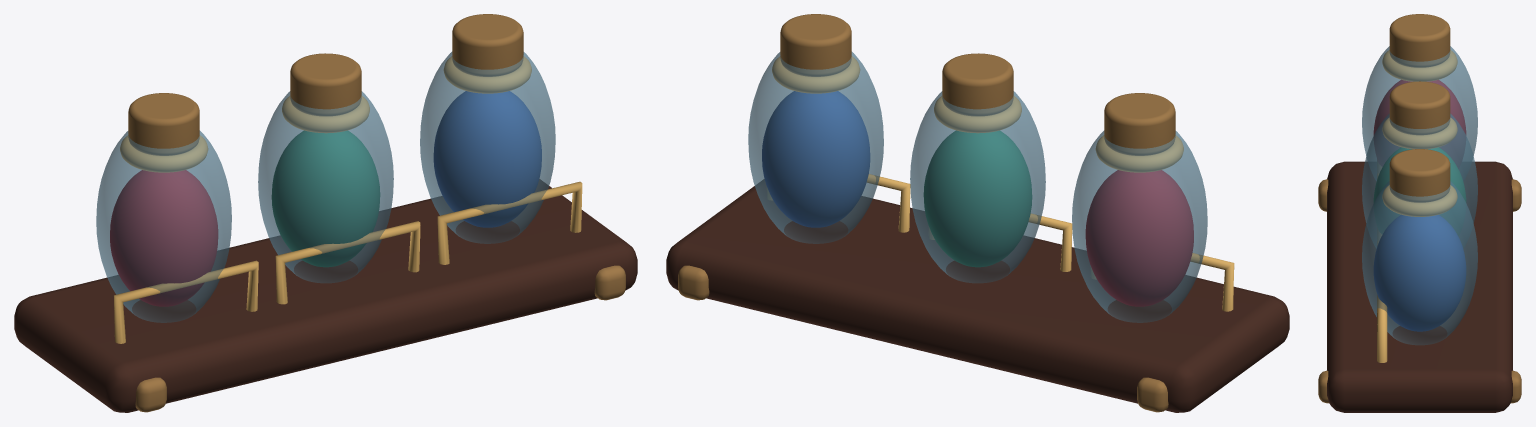
File: genre-vials-v1.glb
The picture shows the model from 3 angles, left to right: view 1: azimuth 30°, elevation 25°; view 2: azimuth 150°, elevation 25°; view 3: azimuth 270°, elevation 25°; orthographic projection. The views are drawn at different scales.
Visible parts, largest first — view 1: VialRack, GlassVial.002, GlassVial.001, GlassVial, VialContents.002, VialContents, VialContents.001, VialStopper.001, VialStopper.002, VialStopper, VialCradle.002, VialCradle.001 (+6 smaller); view 2: VialRack, GlassVial.002, GlassVial, GlassVial.001, VialContents, VialContents.002, VialContents.001, VialStopper.001, VialStopper.002, VialStopper, VialCollar, VialCollar.002 (+6 smaller); view 3: VialRack, GlassVial.002, VialContents.002, GlassVial, GlassVial.001, VialStopper.001, VialStopper.002, VialStopper, VialCollar, VialCollar.002, VialCollar.001, VialContents (+4 smaller).
Part boxes in pixels (x1=…): VialRack: x1=14, y1=179, x2=637, y2=412; GlassVial.002: x1=420, y1=51, x2=555, y2=243; GlassVial.001: x1=258, y1=91, x2=393, y2=283; GlassVial: x1=96, y1=130, x2=231, y2=322; VialContents.002: x1=433, y1=91, x2=541, y2=227; VialContents: x1=110, y1=170, x2=218, y2=306; VialContents.001: x1=271, y1=130, x2=380, y2=267; VialStopper.001: x1=290, y1=53, x2=361, y2=116; VialStopper.002: x1=452, y1=14, x2=523, y2=76; VialStopper: x1=128, y1=93, x2=199, y2=155; VialCradle.002: x1=437, y1=181, x2=582, y2=264; VialCradle.001: x1=275, y1=221, x2=420, y2=304; VialRack: x1=666, y1=179, x2=1289, y2=412; GlassVial.002: x1=748, y1=51, x2=883, y2=243; GlassVial: x1=1072, y1=130, x2=1207, y2=322; GlassVial.001: x1=910, y1=91, x2=1045, y2=283; VialContents: x1=1085, y1=170, x2=1193, y2=306; VialContents.002: x1=762, y1=91, x2=870, y2=227; VialContents.001: x1=923, y1=130, x2=1032, y2=267; VialStopper.001: x1=942, y1=53, x2=1013, y2=116; VialStopper.002: x1=780, y1=14, x2=851, y2=76; VialStopper: x1=1104, y1=93, x2=1175, y2=155; VialCollar: x1=1095, y1=135, x2=1183, y2=172; VialCollar.002: x1=772, y1=56, x2=860, y2=93; VialRack: x1=1327, y1=161, x2=1512, y2=412; GlassVial.002: x1=1362, y1=181, x2=1477, y2=345; VialContents.002: x1=1373, y1=214, x2=1466, y2=331; GlassVial: x1=1362, y1=46, x2=1477, y2=180; GlassVial.001: x1=1362, y1=113, x2=1477, y2=247; VialStopper.001: x1=1389, y1=81, x2=1450, y2=135; VialStopper.002: x1=1389, y1=149, x2=1450, y2=202; VialStopper: x1=1389, y1=14, x2=1450, y2=67; VialCollar: x1=1382, y1=50, x2=1457, y2=81; VialCollar.002: x1=1382, y1=185, x2=1457, y2=216; VialCollar.001: x1=1382, y1=117, x2=1457, y2=149; VialContents: x1=1373, y1=80, x2=1466, y2=134.
Size of the model in its own units: 1.8 by 0.82 by 0.7.
